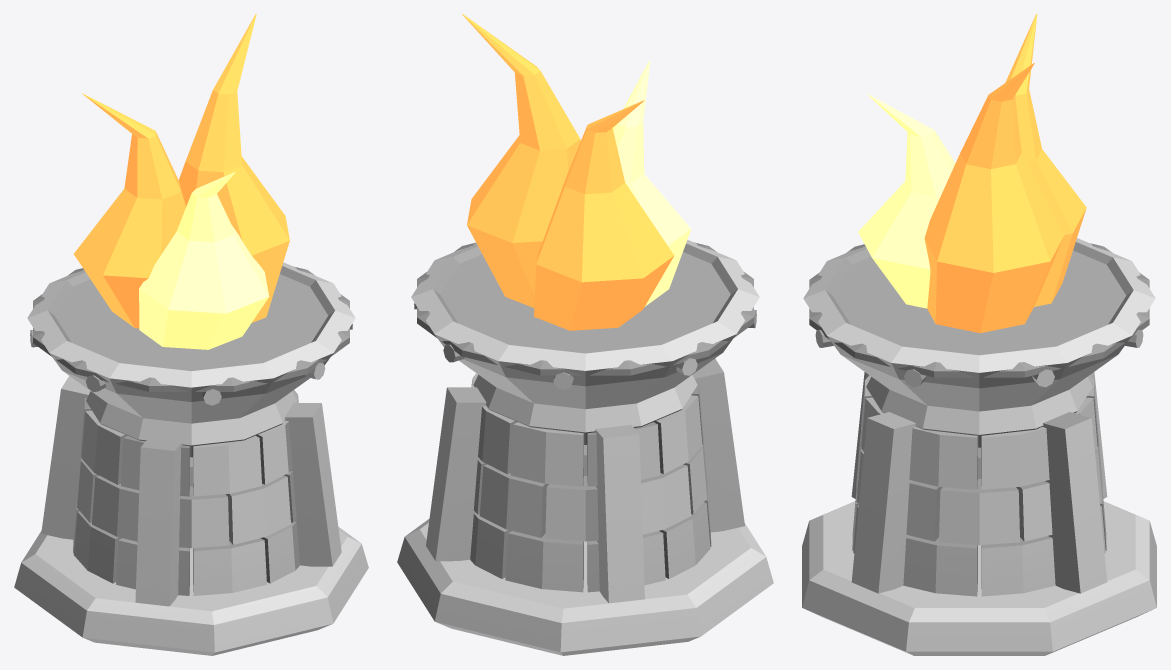
File: brazier.glb
The picture shows the model from 3 angles, left to right: view 1: azimuth 30°, elevation 25°; view 2: azimuth 150°, elevation 25°; view 3: azimuth 270°, elevation 25°; orthographic projection. The views are drawn at different scales.
Visible parts, largest first — view 1: brazier.001; view 2: brazier.001; view 3: brazier.001.
Part boxes in pixels (left/top/right/bottom): brazier.001: left=14, top=14, right=368, bottom=655; brazier.001: left=397, top=14, right=773, bottom=655; brazier.001: left=802, top=14, right=1156, bottom=655.
Size of the model in its own units: 1.13 by 2.01 by 1.13.
